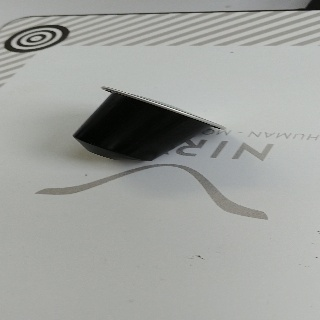capsule_10: (71, 85, 226, 163)
